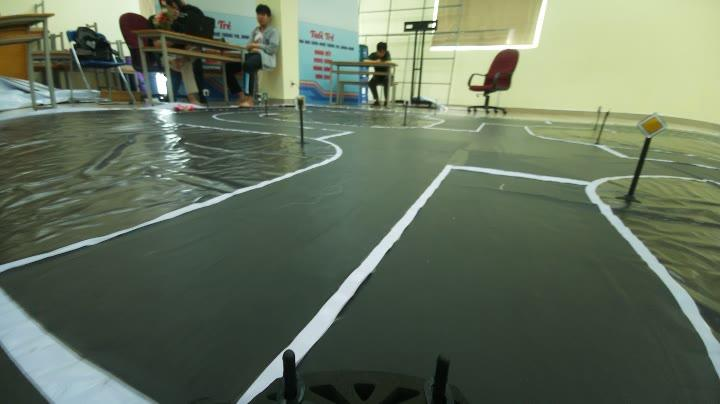priority: (632, 112, 674, 144)
